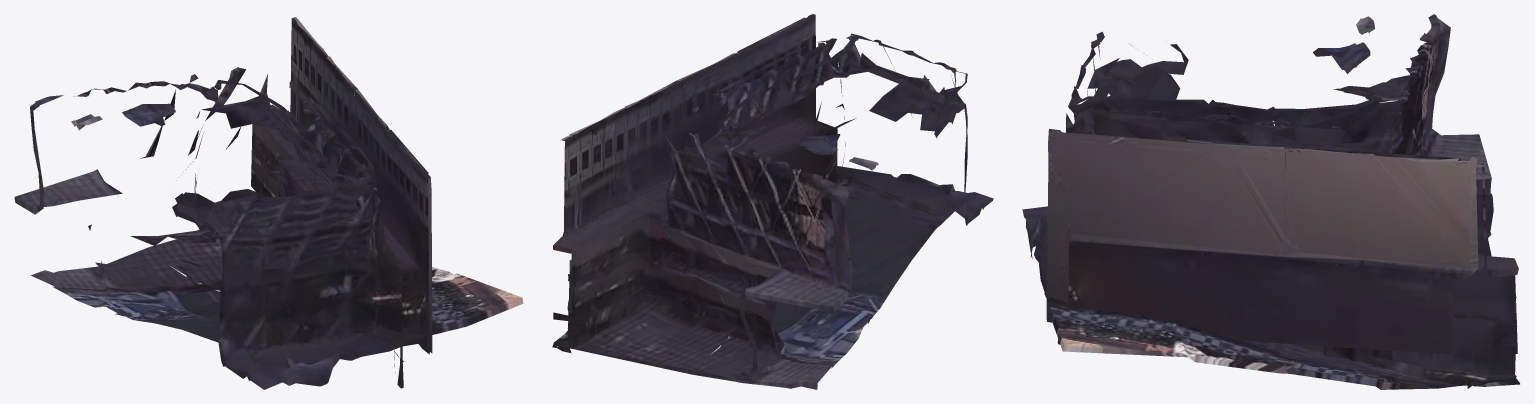
The picture shows the model from 3 angles, left to right: view 1: azimuth 30°, elevation 25°; view 2: azimuth 150°, elevation 25°; view 3: azimuth 270°, elevation 25°; orthographic projection. The views are drawn at different scales.
Visible parts, largest first — view 1: Mesh_0; view 2: Mesh_0; view 3: Mesh_0.
Boxes of the visible parts, x1,y1,x2,y2 form: Mesh_0: (14, 17, 523, 389); Mesh_0: (552, 14, 993, 389); Mesh_0: (1022, 14, 1519, 389).
Bounding box in the file's own units: 33.36 × 21.63 × 41.48.
2 materials, 2 textured.
